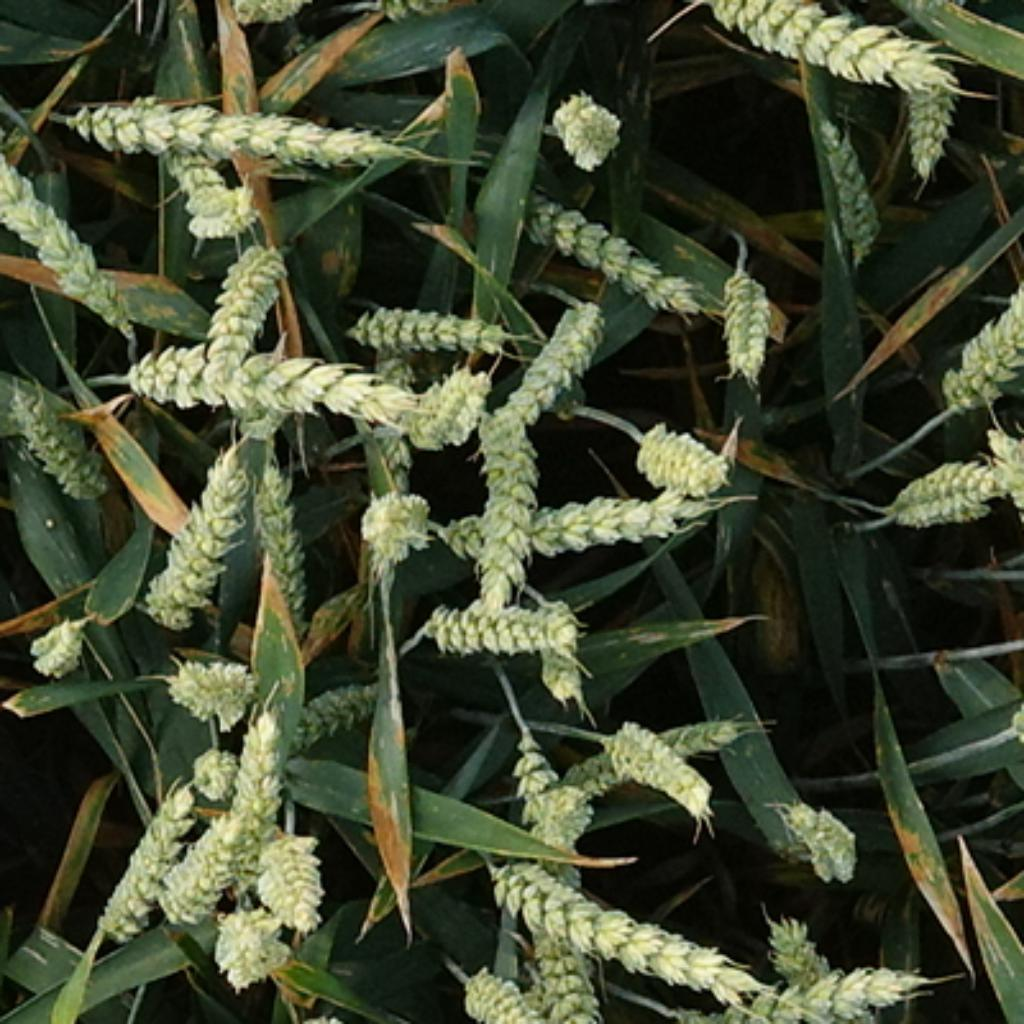0-0: (478, 860, 768, 998), (0, 71, 133, 335), (71, 97, 453, 171), (120, 335, 422, 427), (673, 2, 975, 92), (517, 189, 711, 317), (440, 488, 742, 565), (140, 435, 256, 634), (640, 957, 929, 1024), (87, 785, 197, 944), (491, 302, 616, 440), (0, 371, 122, 506), (565, 706, 742, 798), (473, 407, 542, 624), (151, 793, 263, 919), (194, 238, 289, 386), (798, 104, 885, 256), (762, 911, 875, 1024), (931, 266, 1021, 407), (601, 719, 719, 824), (248, 455, 314, 640), (872, 446, 999, 535), (422, 593, 586, 660), (504, 739, 596, 855), (340, 294, 512, 355), (627, 409, 737, 488), (368, 337, 422, 491), (716, 268, 783, 389), (775, 785, 865, 875), (396, 355, 488, 442), (225, 704, 296, 816), (250, 821, 327, 924), (898, 74, 960, 197), (161, 642, 261, 714), (291, 673, 391, 744), (540, 94, 622, 179), (353, 473, 430, 560), (209, 898, 286, 980), (537, 949, 616, 1024), (176, 181, 266, 243), (540, 599, 591, 704), (23, 614, 92, 680), (463, 975, 552, 1024), (983, 419, 1024, 524), (153, 153, 245, 197), (189, 737, 240, 793), (665, 1003, 773, 1024), (217, 0, 317, 21), (417, 1021, 550, 1024)
